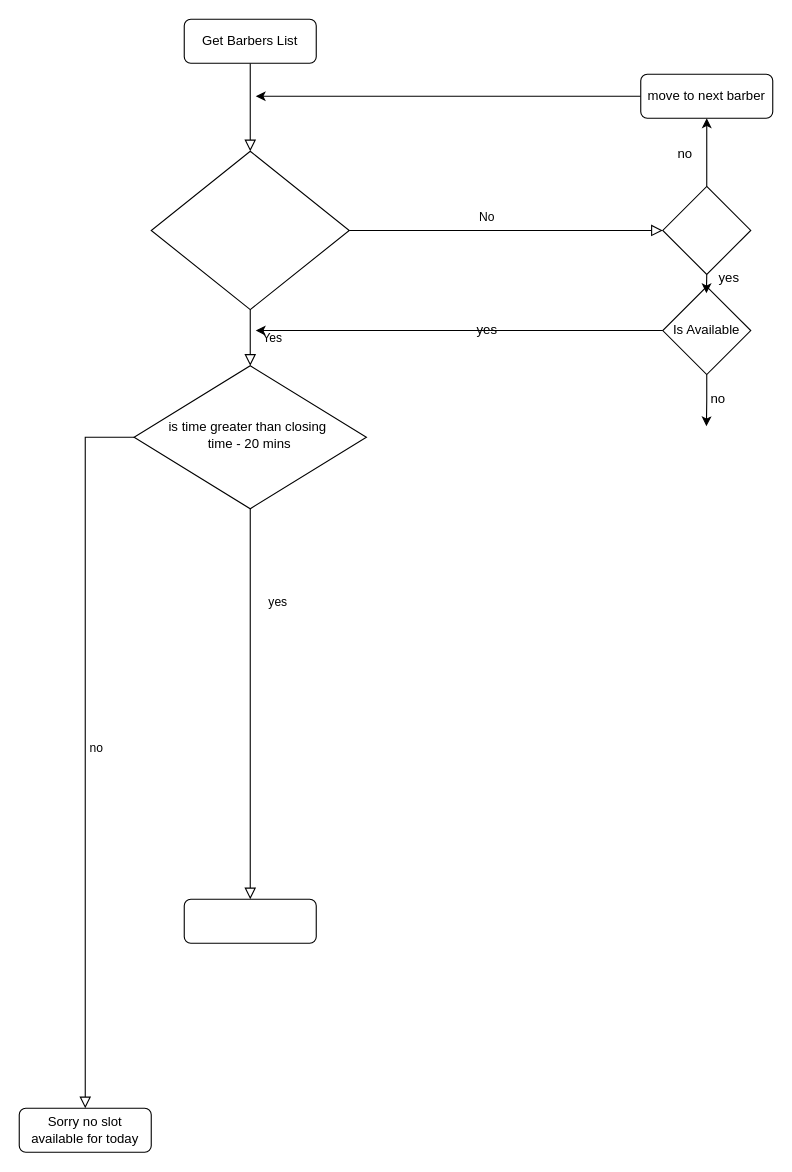
This 792x1172 diagram has some shape labels left out. Here are the shapes that lost their labels. From the top down, the box of each, then its label:
(150, 150, 349, 310): check whether the barber is available
(662, 185, 751, 274): Is Last
(183, 898, 316, 943): create a queue
